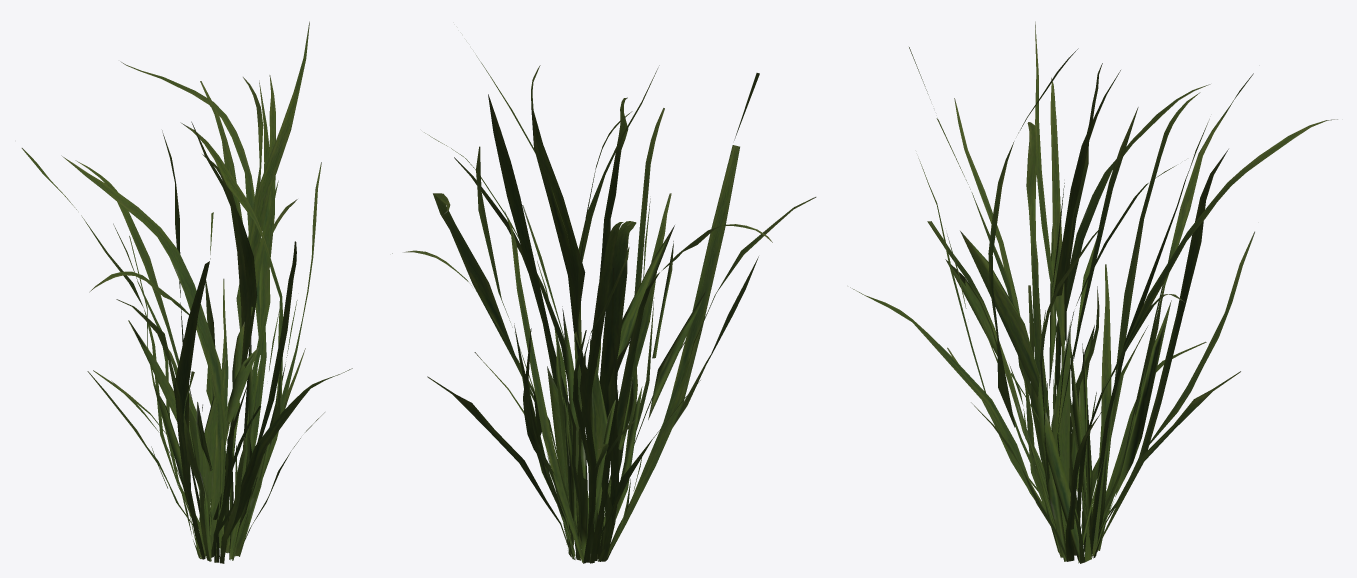
File: PastureGrassLeaves.glb
3 renders of one model, left to right at view 1: azimuth 30°, elevation 25°; view 2: azimuth 150°, elevation 25°; view 3: azimuth 270°, elevation 25°, orthographic. The views are drawn at different scales.
Parts seen in each view (by area): view 1: geometry_0; view 2: geometry_0; view 3: geometry_0.
Boxes of the visible parts, x1,y1,x2,y2 form: geometry_0: (21, 21, 352, 563); geometry_0: (392, 55, 816, 563); geometry_0: (850, 21, 1337, 563).
Bounding box in the file's own units: 0.3229 × 0.52 × 0.4258.
1 material, 1 textured.
